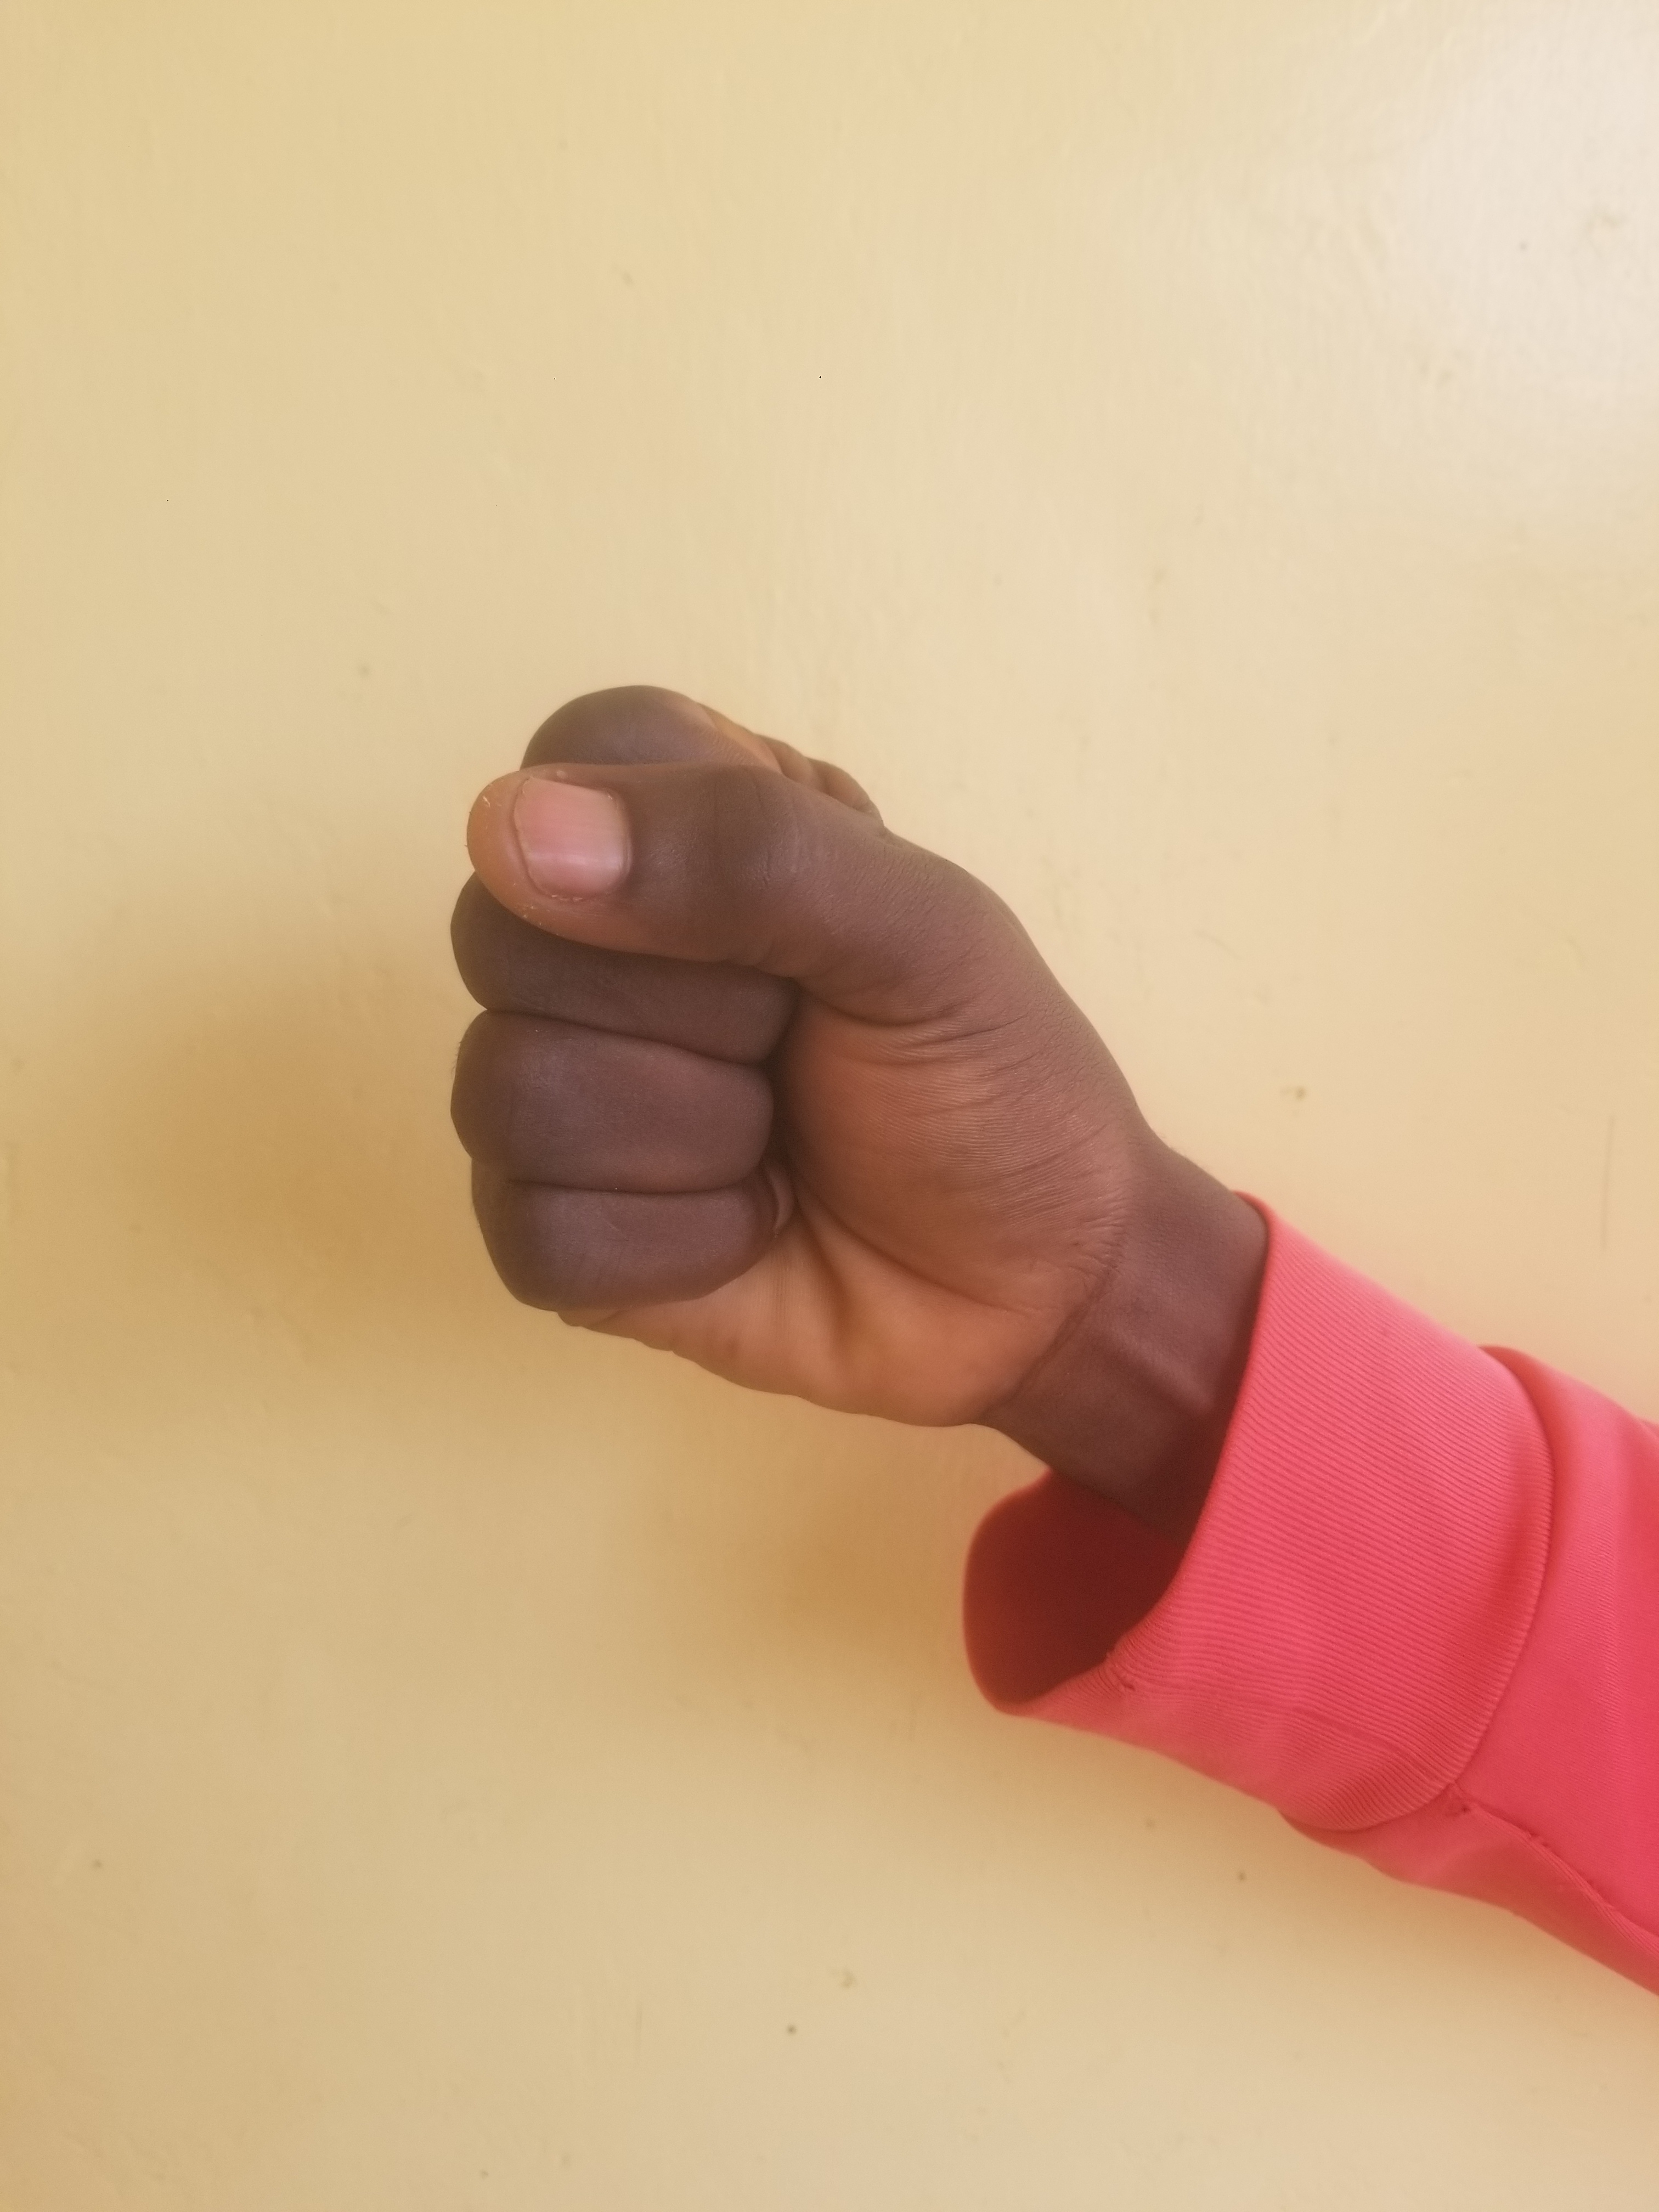fist: (282, 493, 1290, 1719)
